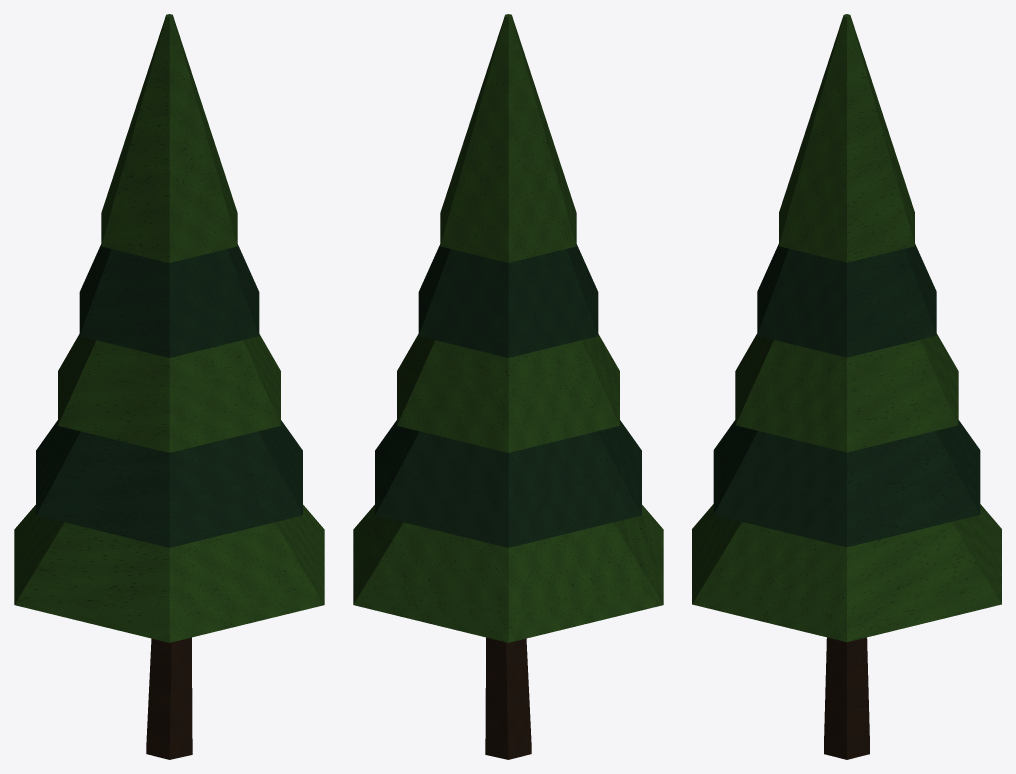
Rendered from PROP-C40F1E7CB8AD_lod2.glb.
3 views of the same model, side by side, from view 1: azimuth 30°, elevation 25°; view 2: azimuth 150°, elevation 25°; view 3: azimuth 270°, elevation 25° (orthographic).
Visible parts, largest first — view 1: layered_conifer_crown.026, layered_conifer_crown.027, trunk.025; view 2: layered_conifer_crown.026, layered_conifer_crown.027, trunk.025; view 3: layered_conifer_crown.026, layered_conifer_crown.027, trunk.025.
Part boxes in pixels (box(x1,y1,x2,y2)): layered_conifer_crown.026: box(14, 14, 324, 642); layered_conifer_crown.027: box(36, 244, 302, 547); trunk.025: box(146, 637, 192, 759); layered_conifer_crown.026: box(353, 14, 663, 642); layered_conifer_crown.027: box(375, 244, 641, 547); trunk.025: box(485, 637, 531, 759); layered_conifer_crown.026: box(692, 14, 1001, 642); layered_conifer_crown.027: box(713, 244, 980, 547); trunk.025: box(824, 637, 869, 759).
Bounding box in the file's own units: 3.23 × 7.3 × 2.8.
Materials: 3 (3 with a texture image).
